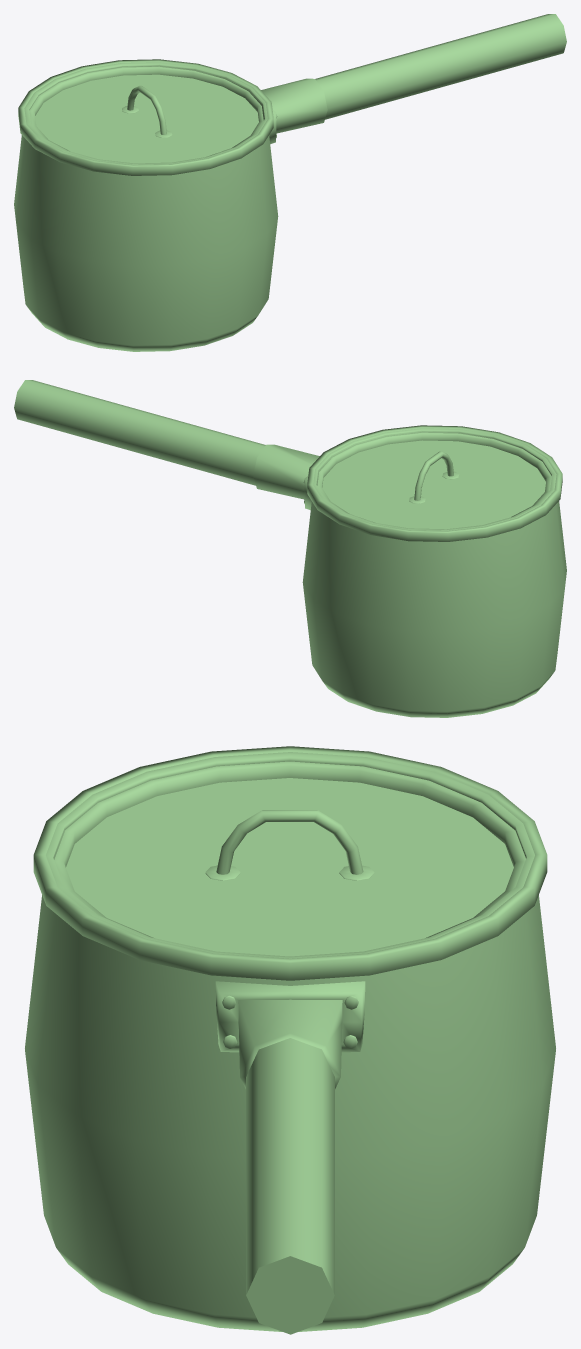
The model's file is Smallpot01.fbx.
3 renders of one model, top to bottom at view 1: azimuth 30°, elevation 25°; view 2: azimuth 150°, elevation 25°; view 3: azimuth 270°, elevation 25°, orthographic. The views are drawn at different scales.
Parts seen in each view (by area): view 1: SmallPot01_Modelling_v002:SmallPot01_Body, SmallPot01_Modelling_v002:SmallPot02_Lid; view 2: SmallPot01_Modelling_v002:SmallPot01_Body, SmallPot01_Modelling_v002:SmallPot02_Lid; view 3: SmallPot01_Modelling_v002:SmallPot01_Body, SmallPot01_Modelling_v002:SmallPot02_Lid.
Boxes of the visible parts, box(x1,y1,x2,y2) form: SmallPot01_Modelling_v002:SmallPot01_Body: box(14, 14, 566, 351); SmallPot01_Modelling_v002:SmallPot02_Lid: box(24, 62, 267, 164); SmallPot01_Modelling_v002:SmallPot01_Body: box(14, 380, 566, 717); SmallPot01_Modelling_v002:SmallPot02_Lid: box(313, 428, 556, 530); SmallPot01_Modelling_v002:SmallPot01_Body: box(25, 746, 555, 1334); SmallPot01_Modelling_v002:SmallPot02_Lid: box(46, 752, 534, 958).
Bounding box in the file's own units: 55.23 × 21.33 × 24.21.
Materials: 1 (1 with a texture image).
